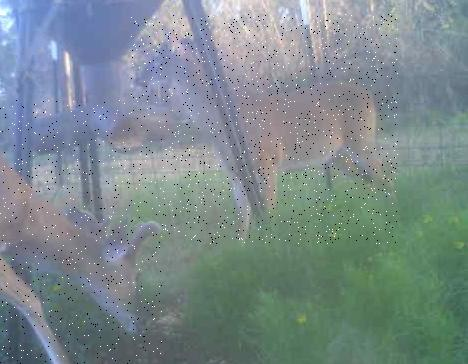Deer: (131, 14, 398, 244), (0, 100, 162, 364)
